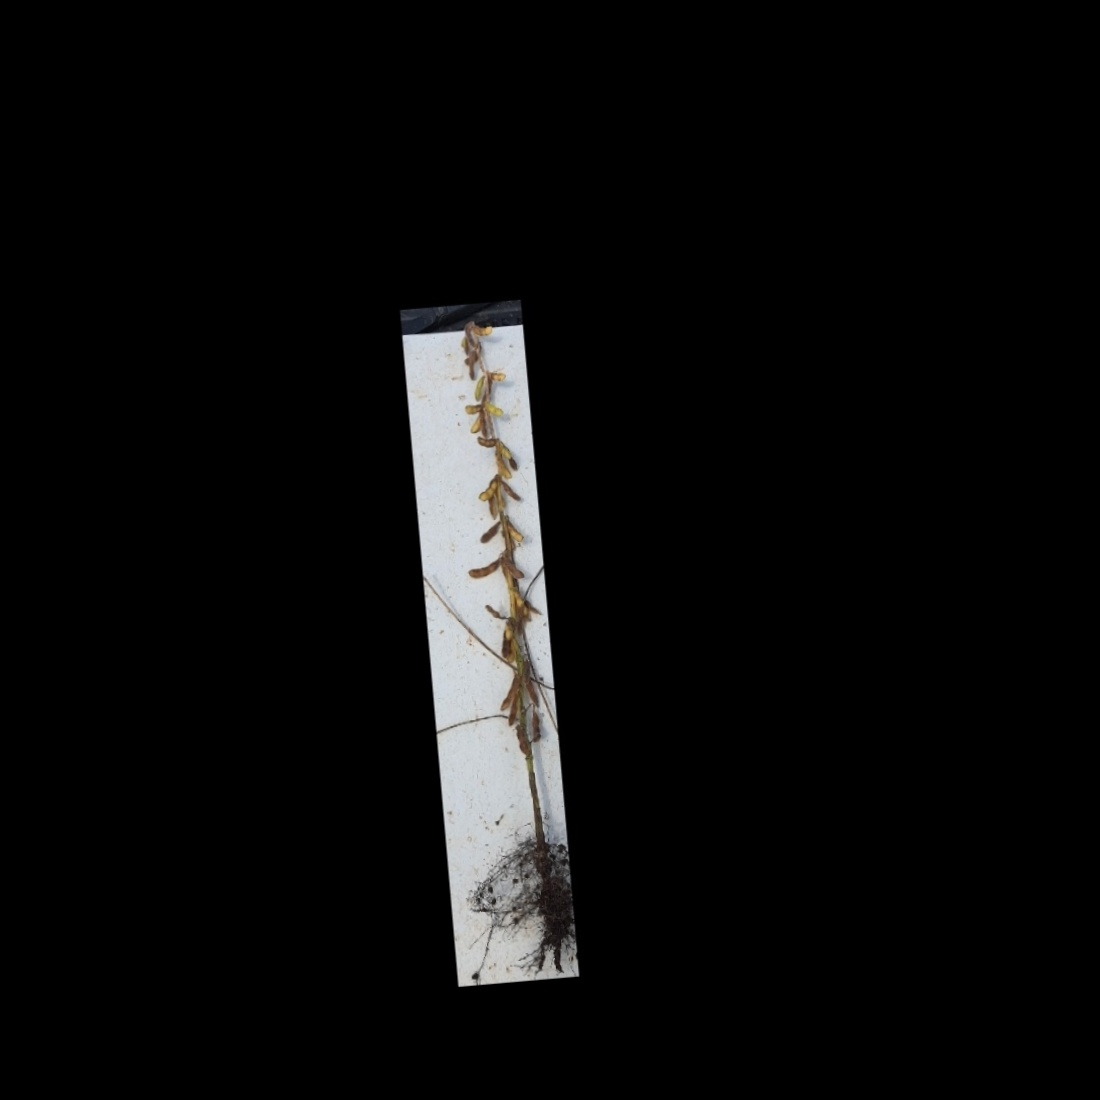pod: (464, 556, 502, 583), (500, 476, 526, 509), (474, 476, 499, 504), (475, 520, 502, 544), (504, 696, 522, 729), (506, 517, 526, 543), (470, 374, 487, 404), (486, 364, 506, 388), (473, 319, 496, 340), (476, 433, 495, 450)
soy: (417, 307, 571, 942)
